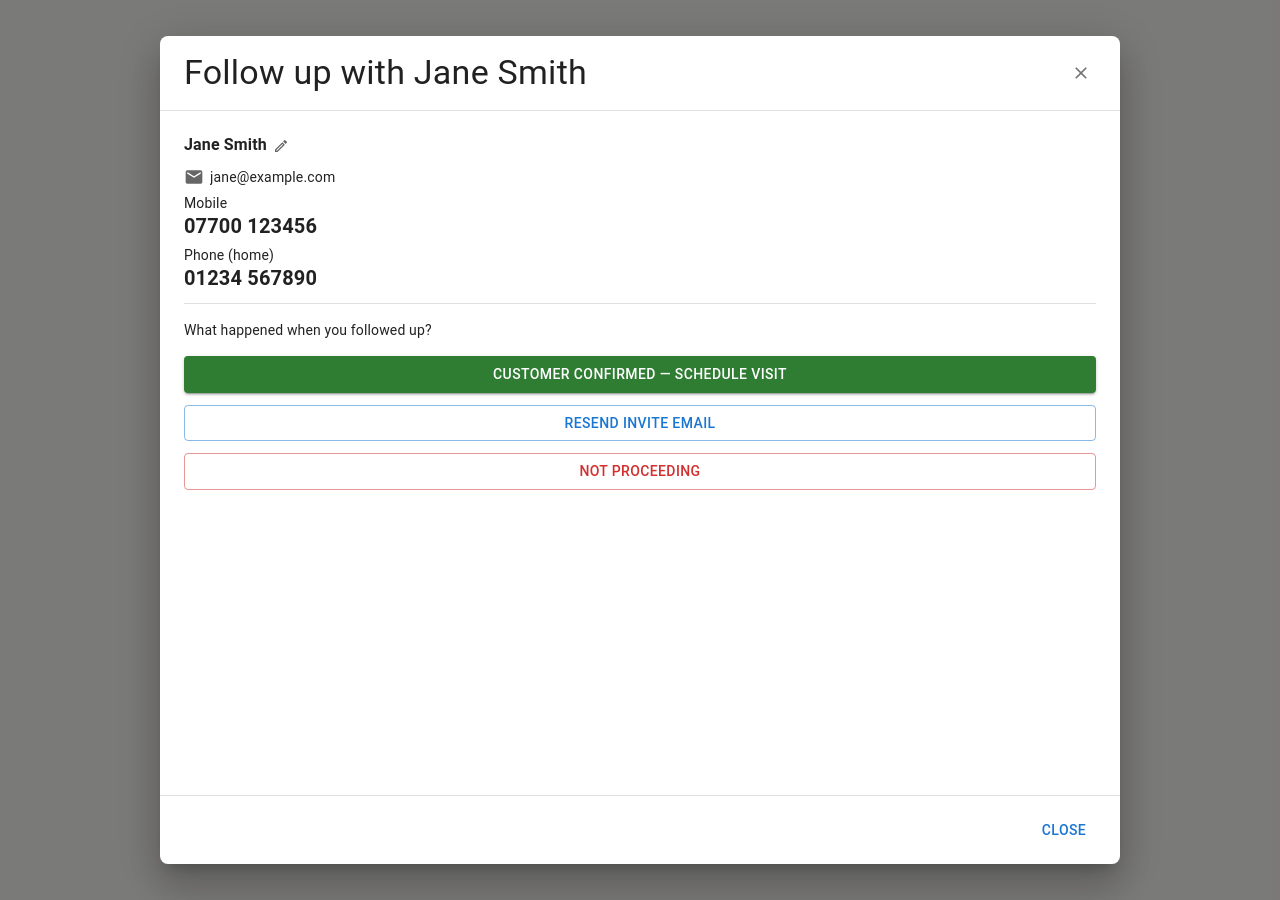
Scenario: DesignVisitFollowupModal — modal title › shows "Resend design visit invite" when the resend step is active
Expected: the button with test id "dvf-confirmed" is shown, 184,356 -> 1096,392
Click the button with test id "dvf-resend" at (640, 423), box 184,404 -> 1096,441
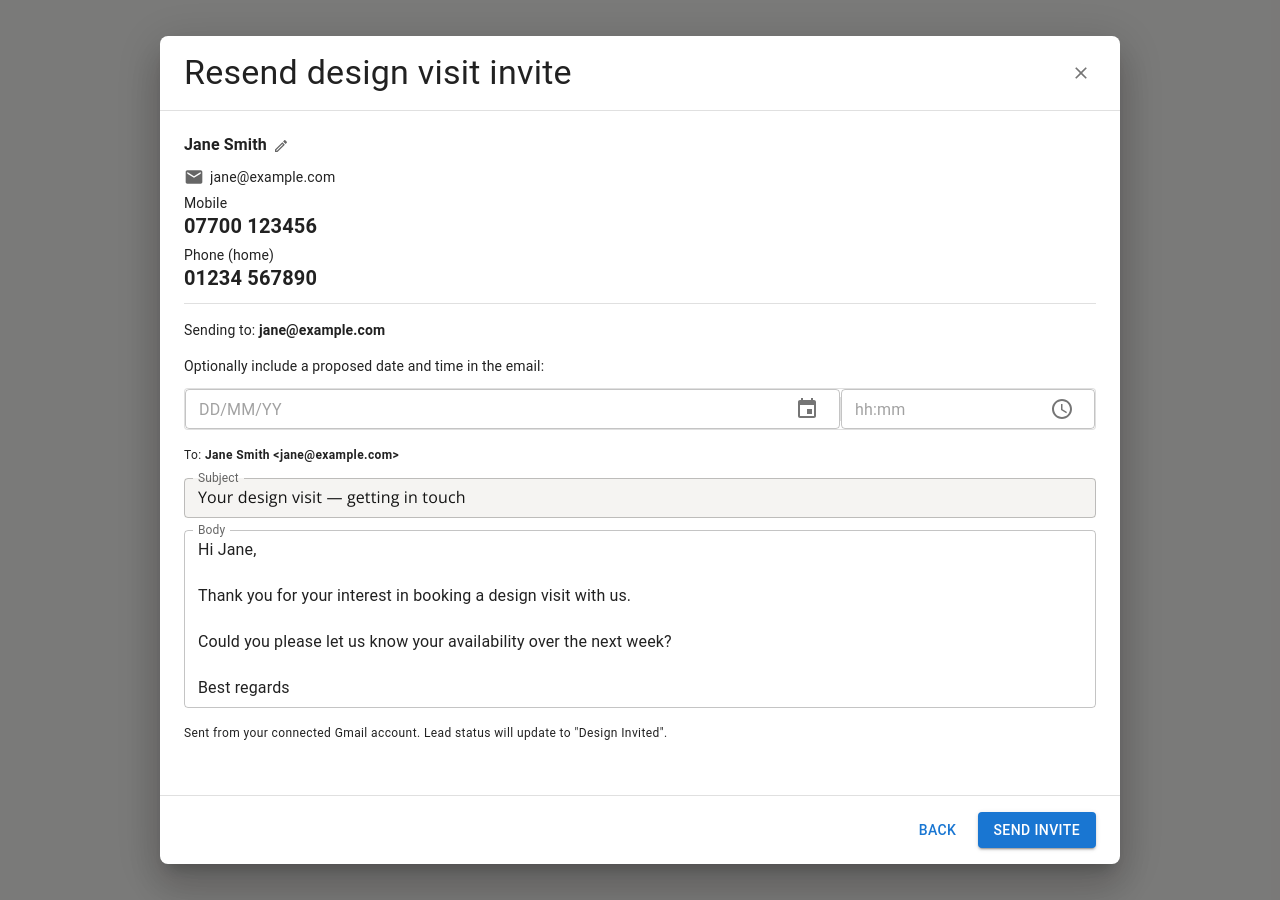
Now the heading "Resend design visit invite" is shown, box 184,52 -> 572,92
